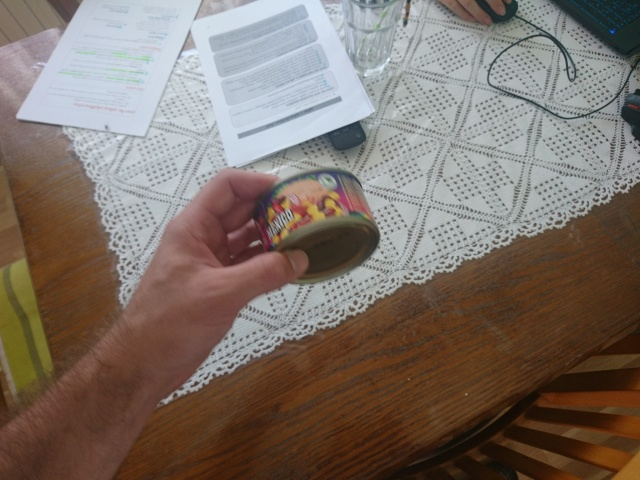Giana Tuna Salad Mexico 185g: (250, 164, 382, 288)
